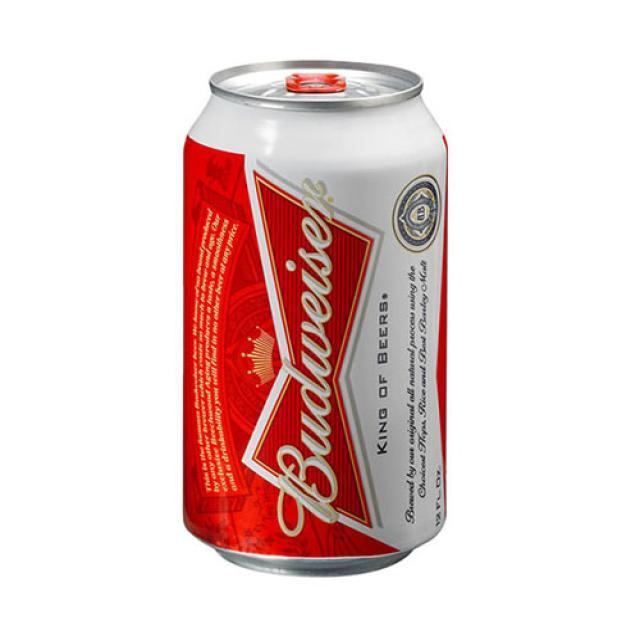can: (183, 57, 452, 579)
